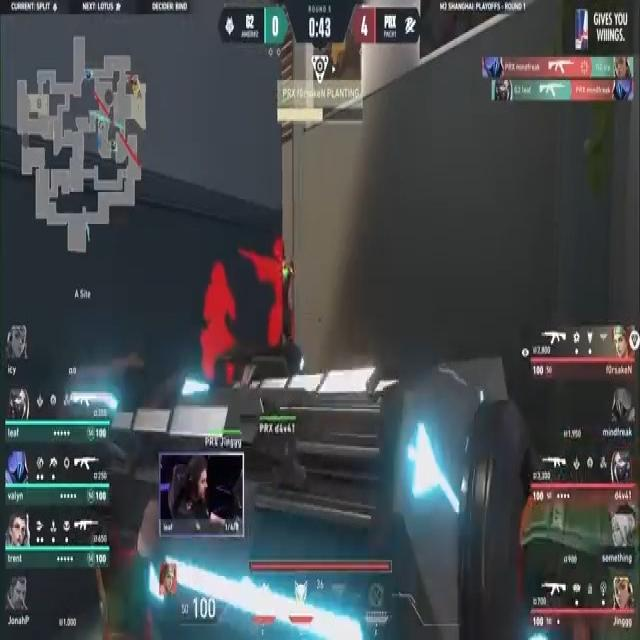ally: (245, 230, 308, 376)
enemy behind wall: (199, 256, 237, 376)
